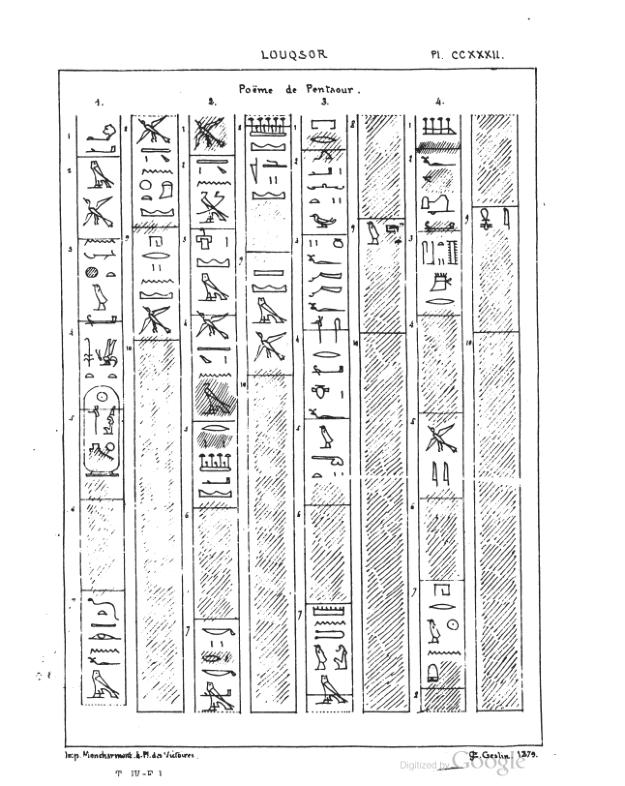circle: (77, 384, 123, 479)
